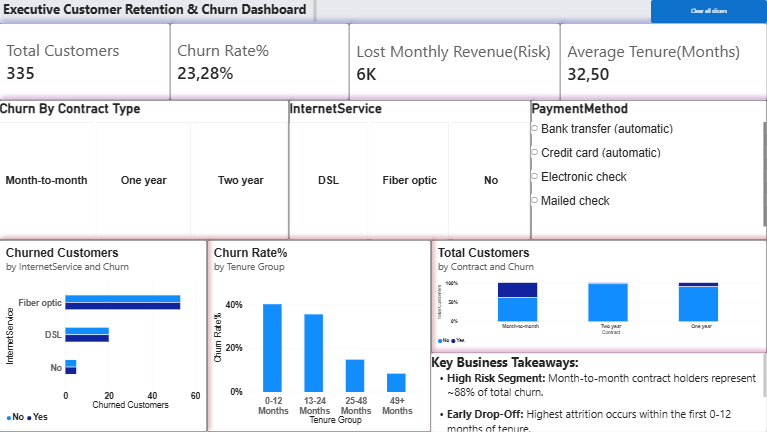

Layout of this report page (visuals, bound fields, positions):
{"tool":"powerbi","page":{"name":"Page 1","canvas":[1920,1080],"ordinal":0},"visuals":[{"type":"textbox","box":[10.1,0,783.6,58],"z":0},{"type":"cardVisual","fields":{"Data":["_Measures.Total Customers"]},"box":[0,57.5,427.5,192.5],"z":1000},{"type":"cardVisual","fields":{"Data":["_Measures.Churn Rate%"]},"box":[427.5,57.5,447.5,192.5],"z":2000},{"type":"cardVisual","fields":{"Data":["_Measures.Lost Monthly Revenue(Risk)"]},"box":[875,57.5,527.5,195],"z":3000},{"type":"cardVisual","fields":{"Data":["_Measures.Average Tenure(Months)"]},"box":[1402.5,57.5,517.5,195],"z":4000},{"type":"advancedSlicerVisual","title":"Churn By Contract Type","fields":{"Values":["WA_Fn-UseC_-Telco-Customer-Churn Task 2.Contract"]},"box":[0,250,725,350],"z":5000},{"type":"advancedSlicerVisual","fields":{"Values":["WA_Fn-UseC_-Telco-Customer-Churn Task 2.InternetService"]},"box":[725,250,605,350],"z":6000},{"type":"listSlicer","fields":{"Values":["WA_Fn-UseC_-Telco-Customer-Churn Task 2.PaymentMethod"]},"box":[1330,250,590,350],"z":7000},{"type":"hundredPercentStackedColumnChart","fields":{"Category":["WA_Fn-UseC_-Telco-Customer-Churn Task 2.Contract"],"Series":["WA_Fn-UseC_-Telco-Customer-Churn Task 2.Churn"],"Y":["_Measures.Total Customers"]},"box":[1080,600,840,282.5],"z":8000},{"type":"clusteredColumnChart","fields":{"Category":["WA_Fn-UseC_-Telco-Customer-Churn Task 2.Tenure Group "],"Y":["_Measures.Churn Rate%"]},"box":[520,600,560,480],"z":9000},{"type":"clusteredBarChart","fields":{"Category":["WA_Fn-UseC_-Telco-Customer-Churn Task 2.InternetService"],"Series":["WA_Fn-UseC_-Telco-Customer-Churn Task 2.Churn"],"Y":["_Measures.Churned Customers"]},"box":[0,600,520,480],"z":10000},{"type":"textbox","box":[1080,882.5,840,197.5],"z":11000},{"type":"actionButton","box":[1630,0,290,57.5],"z":12000}]}

Visuals, with their boxes in screenshot pixels (x1, y1, x2, y2), scaled from the page's 1920x1080 canvas onto the 767x432 screenshot:
textbox: l=4, t=0, r=317, b=23
cardVisual - _Measures.Total Customers: l=0, t=23, r=171, b=100
cardVisual - _Measures.Churn Rate%: l=171, t=23, r=350, b=100
cardVisual - _Measures.Lost Monthly Revenue(Risk): l=350, t=23, r=560, b=101
cardVisual - _Measures.Average Tenure(Months): l=560, t=23, r=766, b=101
"Churn By Contract Type" advancedSlicerVisual: l=0, t=100, r=290, b=240
advancedSlicerVisual - WA_Fn-UseC_-Telco-Customer-Churn Task 2.InternetService: l=290, t=100, r=531, b=240
listSlicer - WA_Fn-UseC_-Telco-Customer-Churn Task 2.PaymentMethod: l=531, t=100, r=766, b=240
hundredPercentStackedColumnChart - WA_Fn-UseC_-Telco-Customer-Churn Task 2.Contract x WA_Fn-UseC_-Telco-Customer-Churn Task 2.Churn: l=431, t=240, r=766, b=353
clusteredColumnChart - WA_Fn-UseC_-Telco-Customer-Churn Task 2.Tenure Group  x _Measures.Churn Rate%: l=208, t=240, r=431, b=431
clusteredBarChart - WA_Fn-UseC_-Telco-Customer-Churn Task 2.InternetService x WA_Fn-UseC_-Telco-Customer-Churn Task 2.Churn: l=0, t=240, r=208, b=431
textbox: l=431, t=353, r=766, b=431
actionButton: l=651, t=0, r=766, b=23
